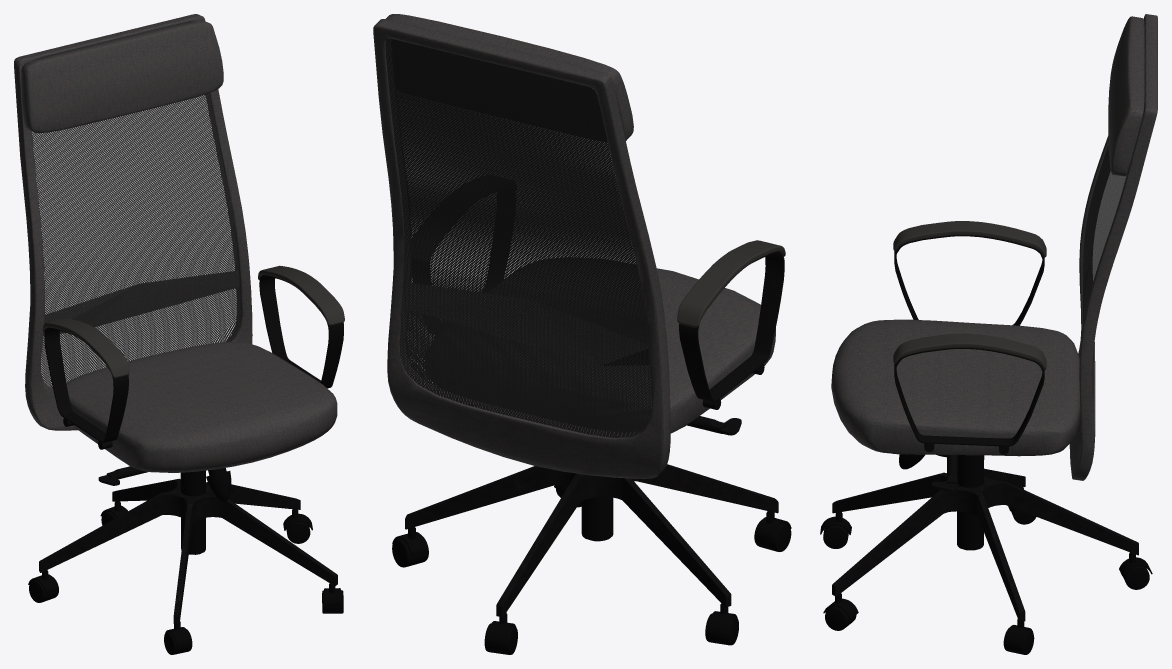
Rendered from chair.glb.
3 renders of one model, left to right at view 1: azimuth 30°, elevation 25°; view 2: azimuth 150°, elevation 25°; view 3: azimuth 270°, elevation 25°, orthographic. The views are drawn at different scales.
Visible parts, largest first — view 1: polySurface3760, polySurface3758, polySurface3749, polySurface3746, polySurface3764, polySurface3741, polySurface3739, polySurface3748, polySurface3781, polySurface3740, polySurface3734, polySurface3757 (+2 smaller); view 2: polySurface3761, polySurface3760, polySurface3746, polySurface3764, polySurface3758, polySurface3749, polySurface3741, polySurface3740, polySurface3747, polySurface3734, polySurface3753, polySurface3743 (+2 smaller); view 3: polySurface3758, polySurface3764, polySurface3746, polySurface3749, polySurface3760, polySurface3740, polySurface3781, polySurface3739, polySurface3734, polySurface3741, polySurface3774, polySurface3777 (+1 smaller).
Part boxes in pixels (x1,y1,x2,y2): polySurface3760: (32, 93, 240, 387); polySurface3758: (56, 341, 337, 472); polySurface3749: (21, 20, 223, 133); polySurface3746: (14, 14, 252, 430); polySurface3764: (39, 478, 337, 624); polySurface3741: (44, 327, 128, 443); polySurface3739: (259, 275, 343, 388); polySurface3748: (88, 283, 237, 326); polySurface3781: (258, 265, 344, 325); polySurface3740: (42, 318, 129, 378); polySurface3734: (180, 470, 205, 554); polySurface3757: (206, 468, 231, 501); polySurface3761: (385, 38, 652, 437); polySurface3760: (391, 39, 651, 432); polySurface3746: (373, 19, 670, 478); polySurface3764: (405, 464, 778, 617); polySurface3758: (425, 257, 775, 433); polySurface3749: (386, 14, 633, 141); polySurface3741: (679, 251, 784, 402); polySurface3740: (677, 240, 785, 327); polySurface3747: (404, 299, 597, 365); polySurface3734: (581, 496, 613, 541); polySurface3753: (533, 300, 648, 365); polySurface3743: (404, 283, 531, 307); polySurface3758: (831, 319, 1080, 456); polySurface3764: (832, 468, 1138, 621); polySurface3746: (1069, 14, 1157, 480); polySurface3749: (1108, 16, 1144, 176); polySurface3760: (1083, 145, 1126, 324); polySurface3740: (893, 221, 1046, 257); polySurface3781: (893, 333, 1046, 369); polySurface3739: (894, 348, 1044, 446); polySurface3734: (957, 455, 984, 550); polySurface3741: (894, 235, 1044, 325); polySurface3774: (825, 606, 856, 630); polySurface3777: (823, 525, 848, 548).
Bounding box in the file's own units: 69.27 × 117 × 68.29.
Materials: 2 (2 with a texture image).
